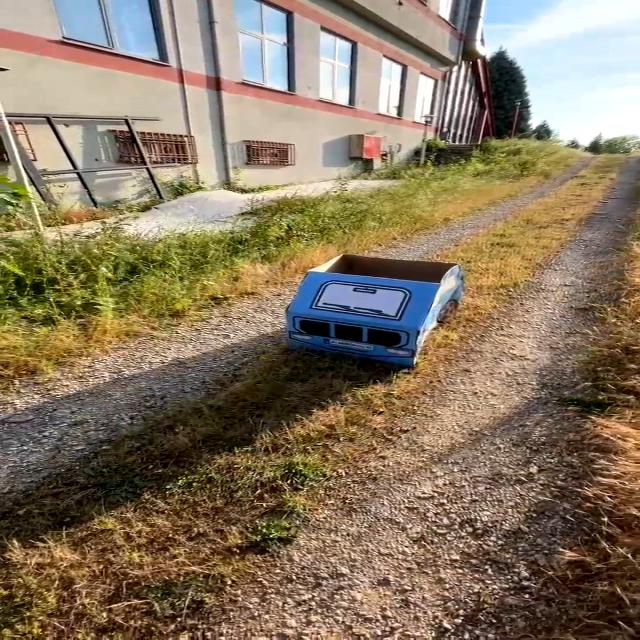blue_car: (209, 244, 494, 373)
